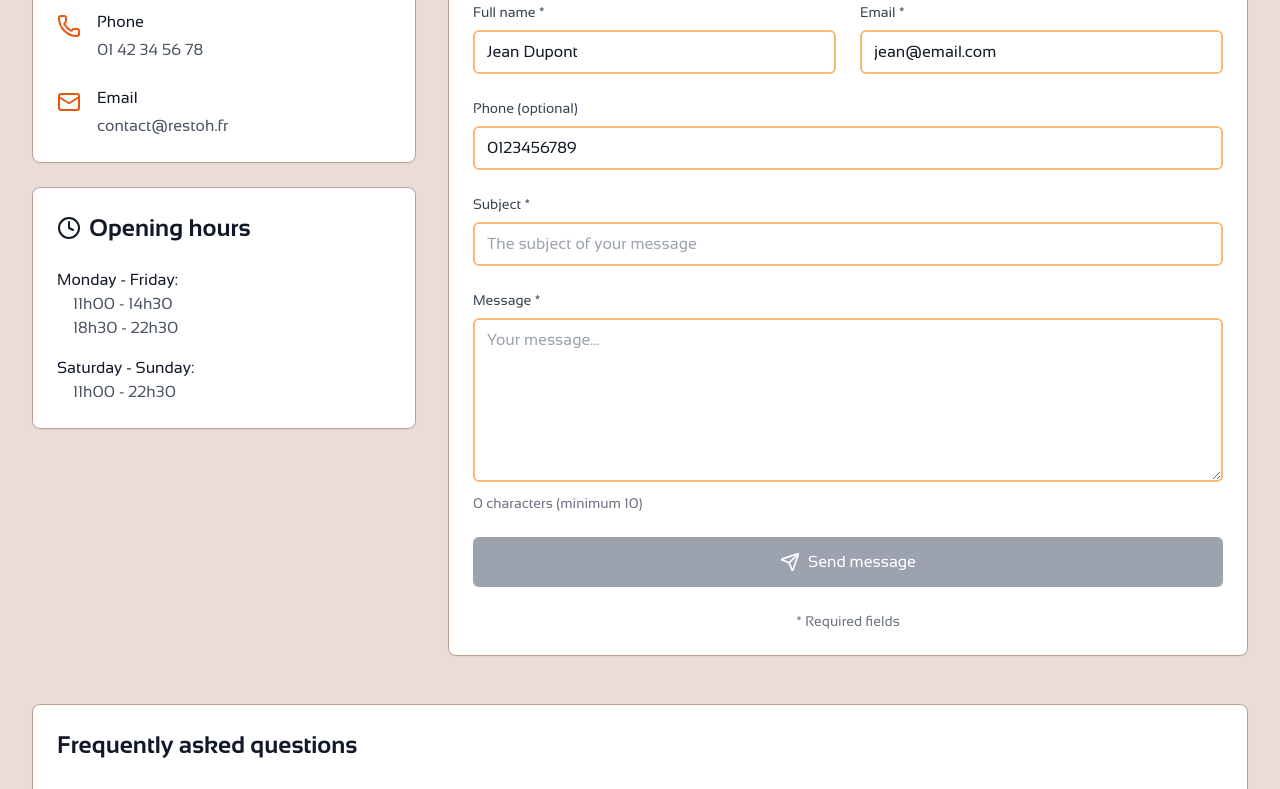
Scenario: Contact Component › should display character count for message field
(page scrolled)
Expected: the text "0 characters (minimum 10)" is shown, [473, 495, 643, 511]
// Type message and check counter updates
Type "Test message" into the text box with placeholder "Your message..." at (848, 400), box [473, 318, 1223, 482]
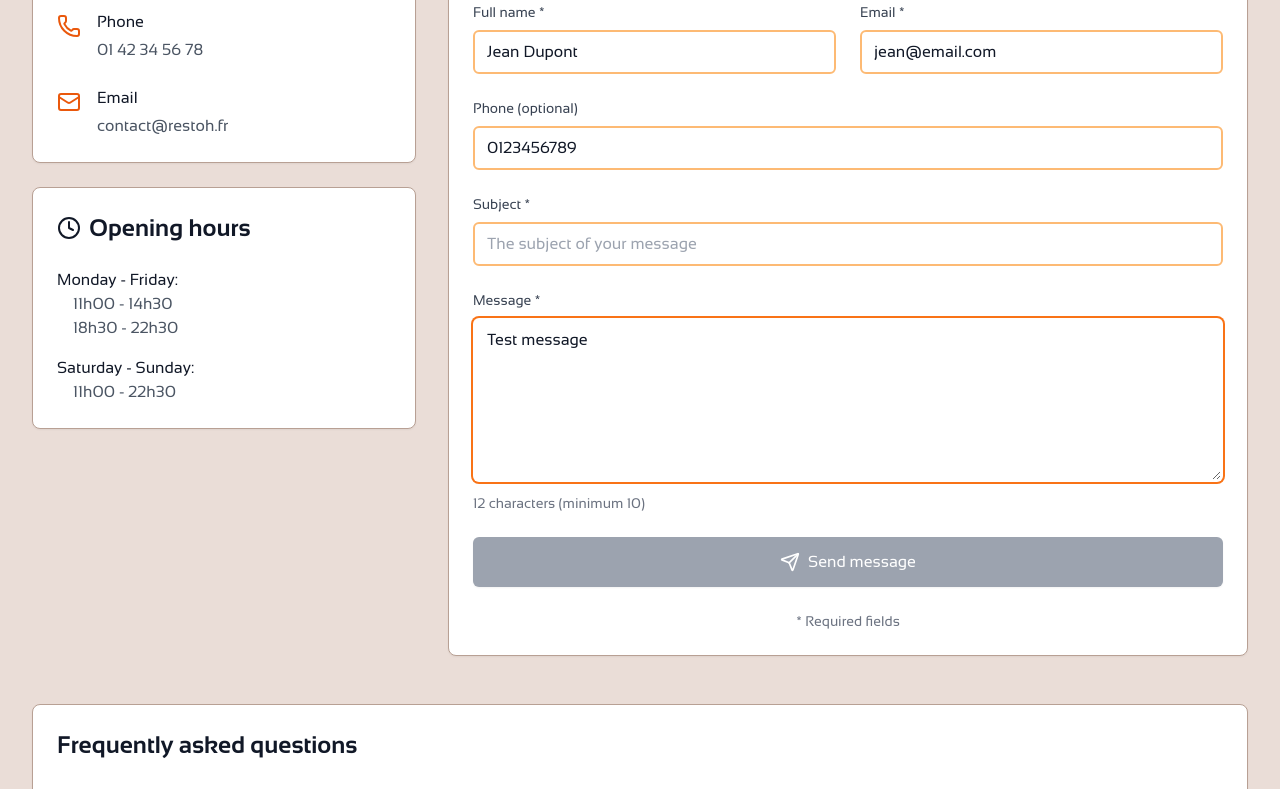
Expected: the text "12 characters (minimum 10)" is shown, [473, 495, 645, 511]
